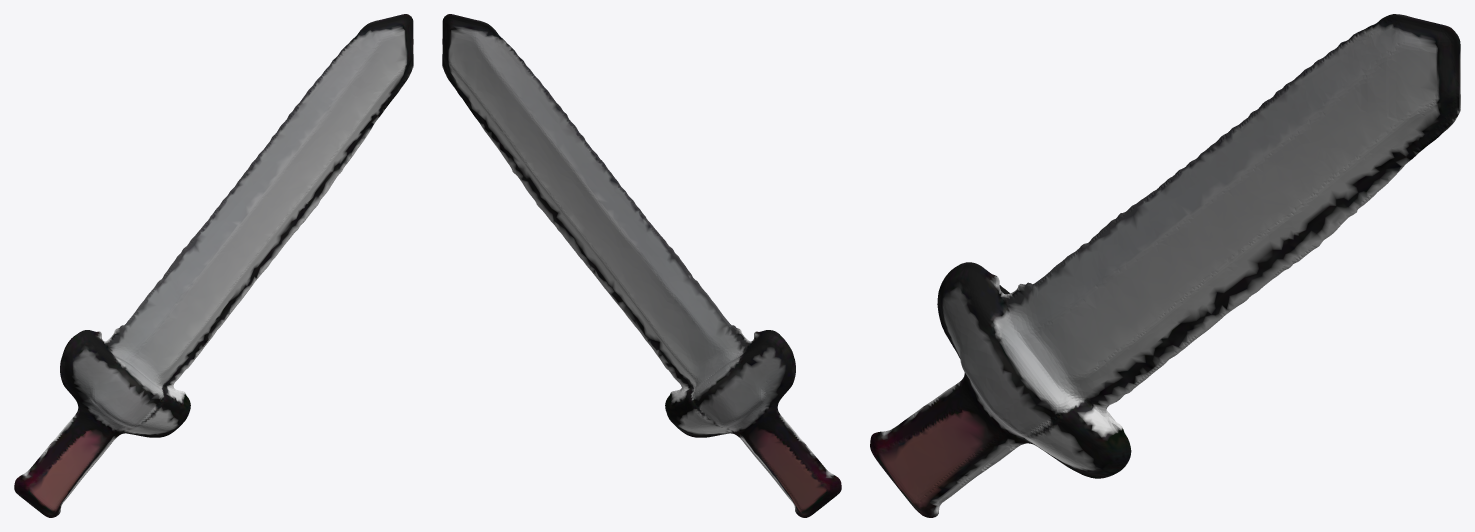
Rendered from bsword_1.glb.
3 views of the same model, side by side, from view 1: azimuth 30°, elevation 25°; view 2: azimuth 150°, elevation 25°; view 3: azimuth 330°, elevation 25° (orthographic). The views are drawn at different scales.
Visible parts, largest first — view 1: geometry_0; view 2: geometry_0; view 3: geometry_0.
Part boxes in pixels (x1,y1,x2,y2): geometry_0: [14, 14, 413, 517]; geometry_0: [442, 14, 841, 517]; geometry_0: [870, 14, 1460, 517].
Size of the model in its own units: 0.9368 by 0.9375 by 0.1058.
